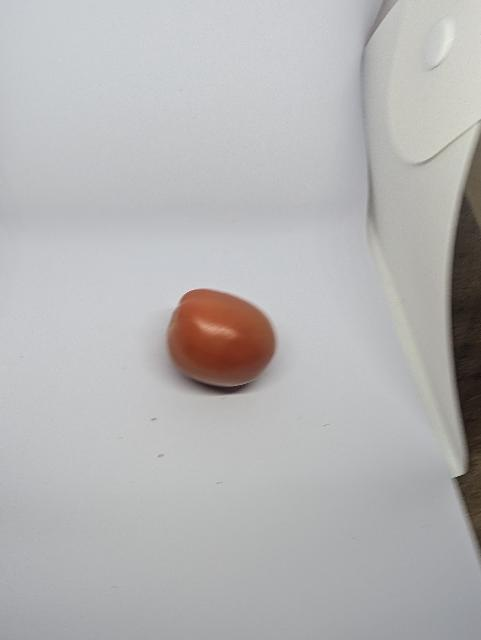red: (165, 287, 279, 390)
